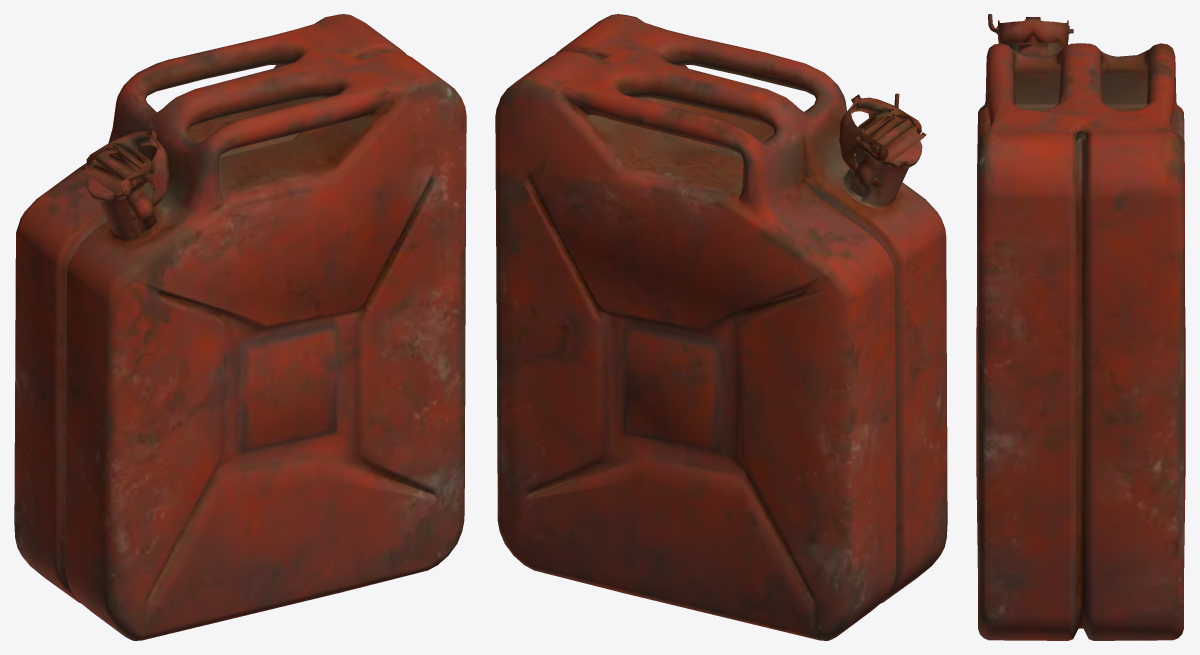
The model's file is metal_jerrycan.glb.
3 renders of one model, left to right at view 1: azimuth 30°, elevation 25°; view 2: azimuth 150°, elevation 25°; view 3: azimuth 270°, elevation 25°, orthographic. The views are drawn at different scales.
Visible parts, largest first — view 1: metal_jerrycan; view 2: metal_jerrycan; view 3: metal_jerrycan.
Part boxes in pixels (x1=…): metal_jerrycan: x1=14, y1=14, x2=466, y2=640; metal_jerrycan: x1=495, y1=14, x2=947, y2=640; metal_jerrycan: x1=976, y1=14, x2=1185, y2=640.
Size of the model in its own units: 0.35 by 0.4548 by 0.1717.
Materials: 1 (1 with a texture image).
